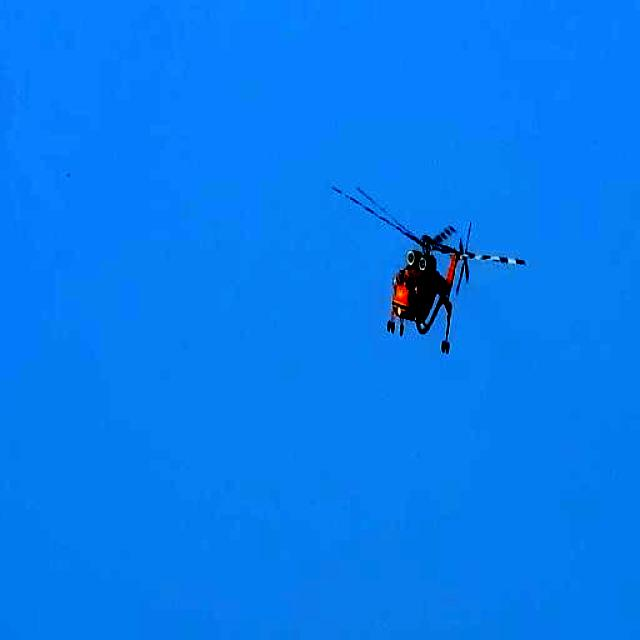drone: (329, 178, 529, 356)
